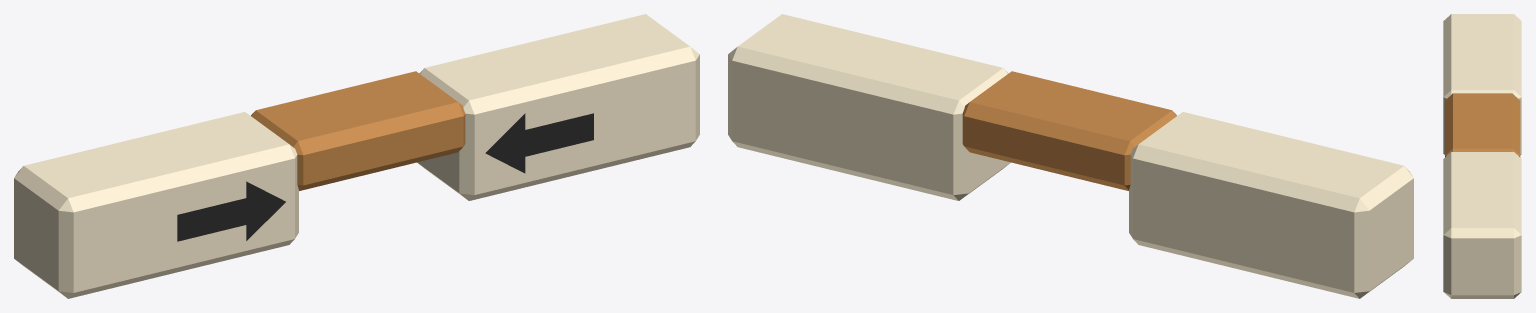
Rendered from reducer.fbx.
3 renders of one model, left to right at view 1: azimuth 30°, elevation 25°; view 2: azimuth 150°, elevation 25°; view 3: azimuth 270°, elevation 25°, orthographic. The views are drawn at different scales.
Visible parts, largest first — view 1: Reducer; view 2: Reducer; view 3: Reducer.
Boxes of the visible parts, left/top/right/bottom form: Reducer: left=14, top=14, right=699, bottom=298; Reducer: left=728, top=14, right=1413, bottom=298; Reducer: left=1443, top=14, right=1521, bottom=298.
Size of the model in its own units: 0.2 by 0.03 by 0.0305.
1 material, 1 textured.
